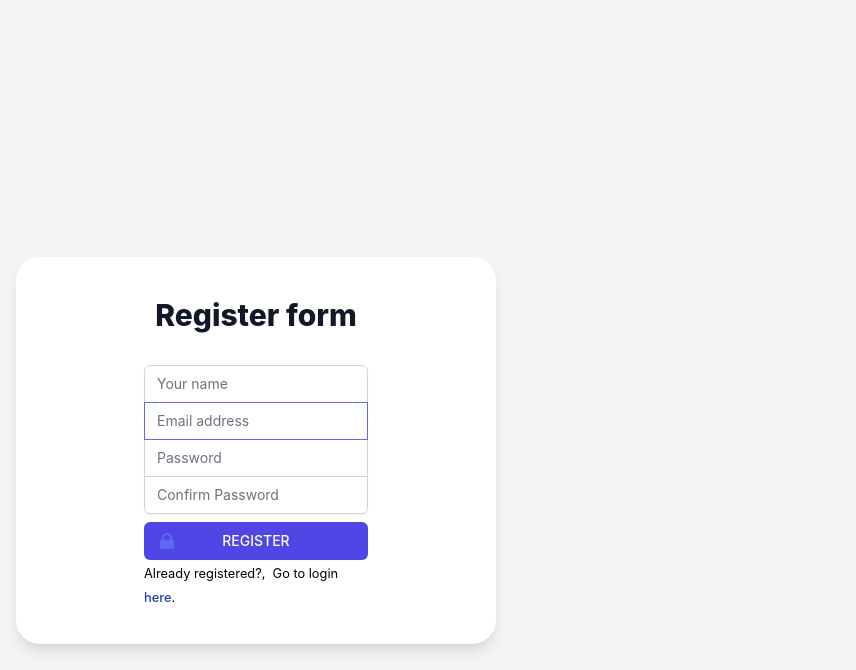
Test: <Register /> › <Register /> Check form - wrong data (email in use)
The width and height of the screenshot is (856, 670).
Type "TestUser" into the field with test id "register-name" at (256, 384), box [144, 365, 368, 403]
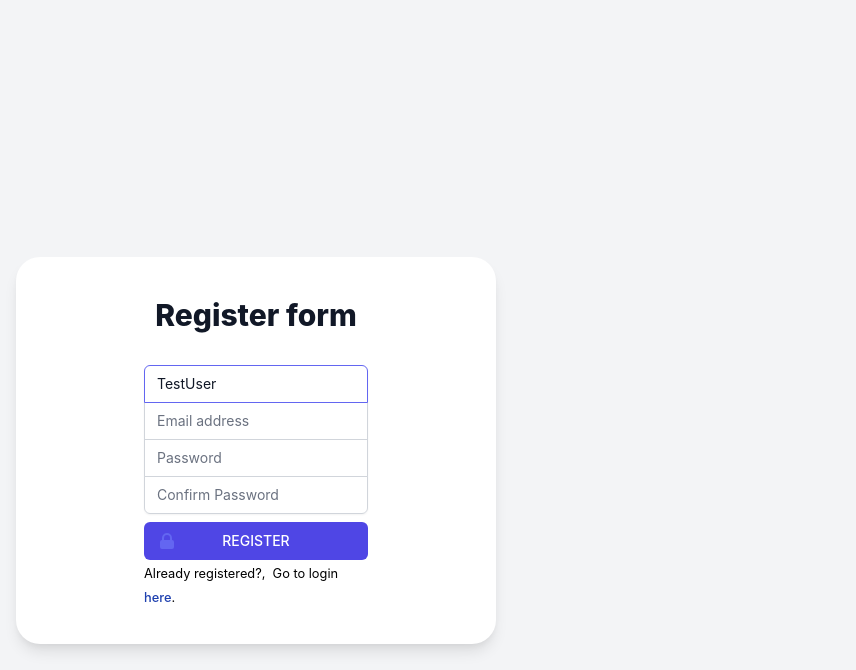
Type "admin@admin.com" into the field with test id "register-email" at (256, 421), box [144, 402, 368, 440]
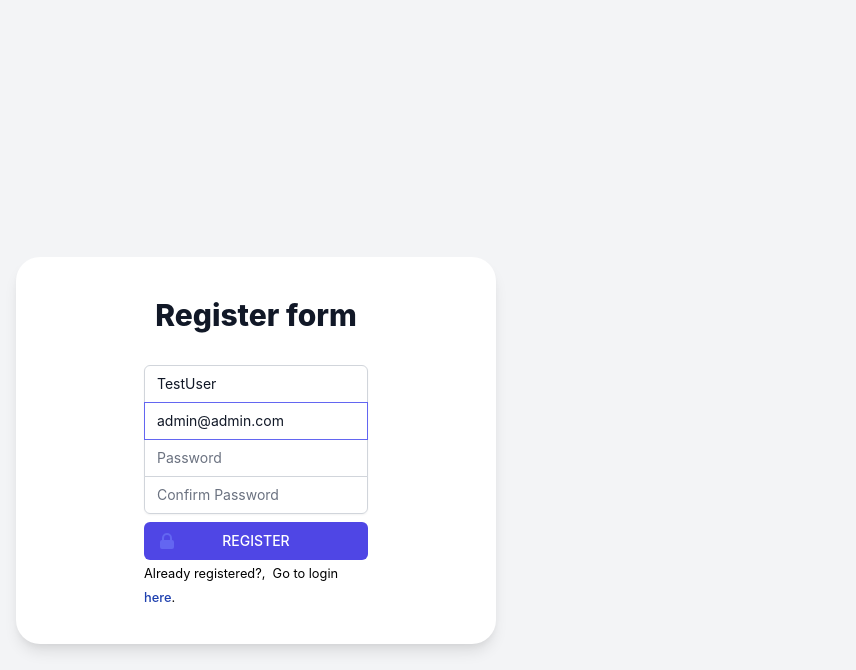
Type "admin123" into the password field with test id "register-password" at (256, 458), box [144, 439, 368, 477]
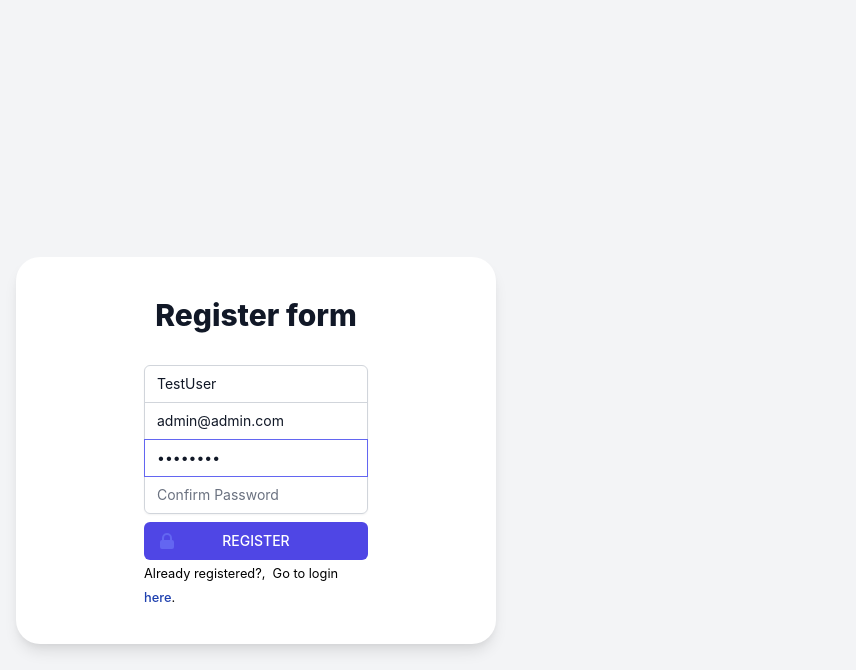
Type "admin123" into the password field with test id "register-password-confirmation" at (256, 495), box [144, 476, 368, 514]
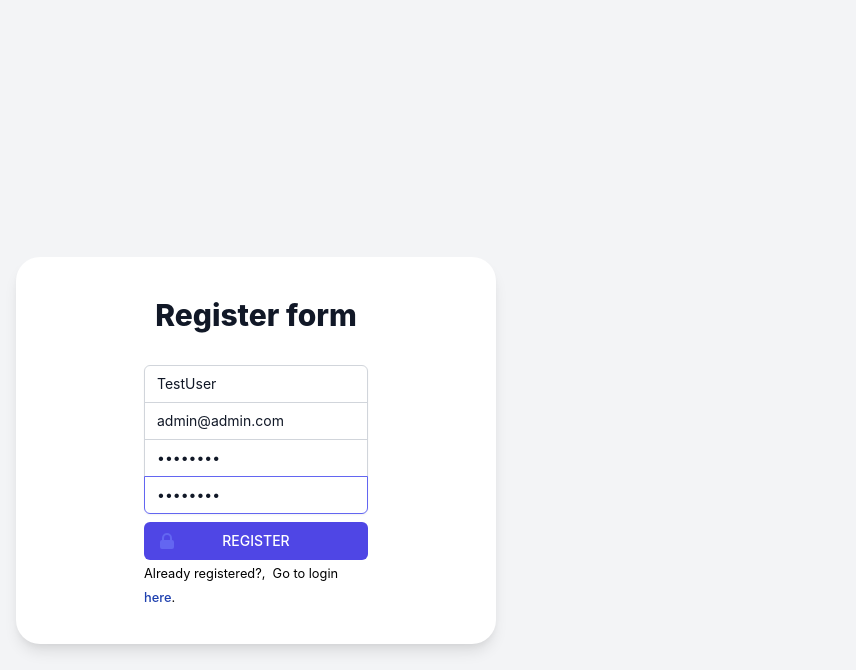
Click the button with test id "register-submit" at (256, 541), box [144, 522, 368, 560]
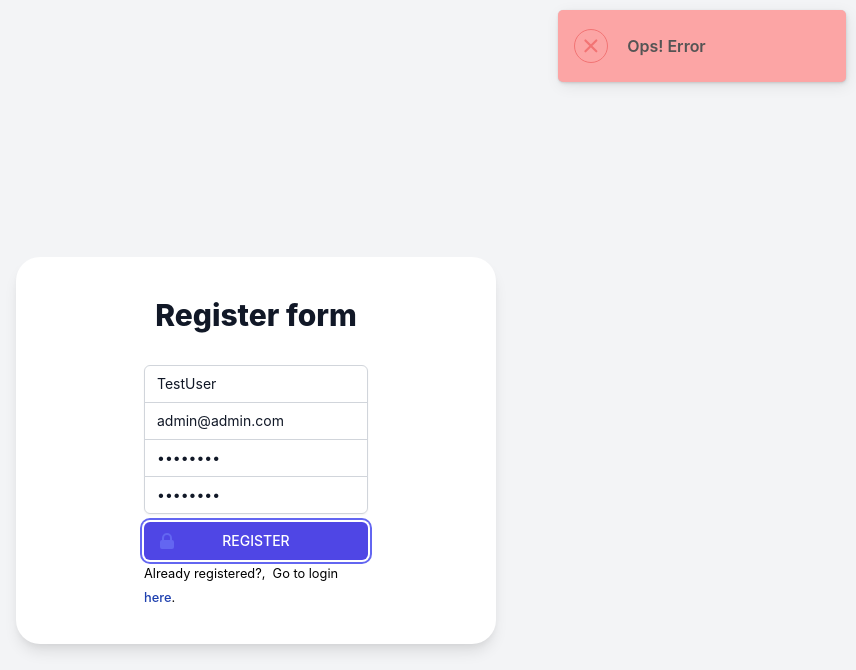
Now the message "Ops! Error" is shown, box [558, 10, 846, 82]
